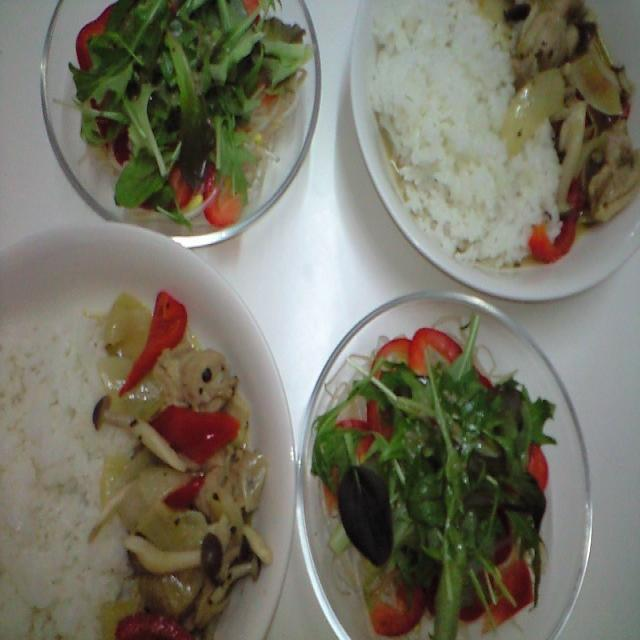Green Salad: (320, 322, 555, 638), (75, 0, 296, 205)
